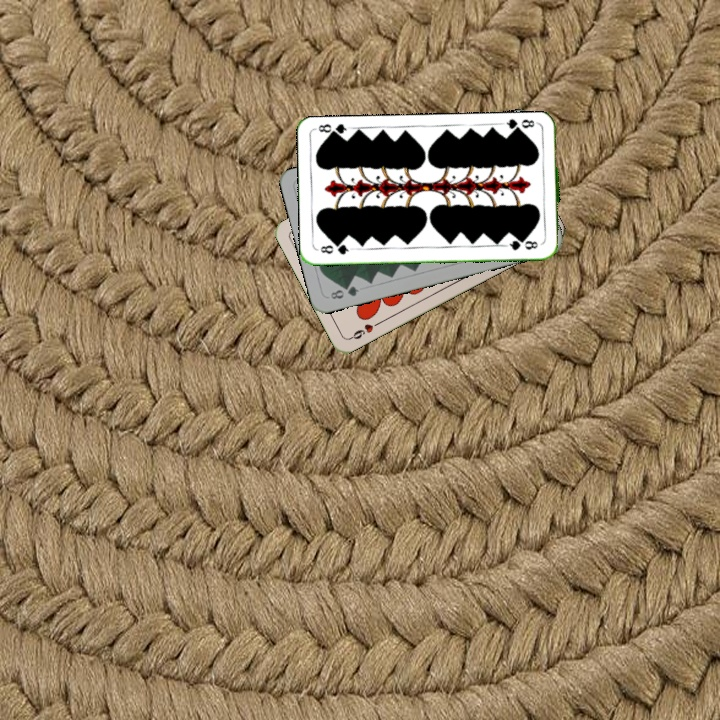G8: (500, 115, 541, 135), (326, 282, 362, 302), (317, 240, 355, 257)
H9: (346, 317, 383, 342)
